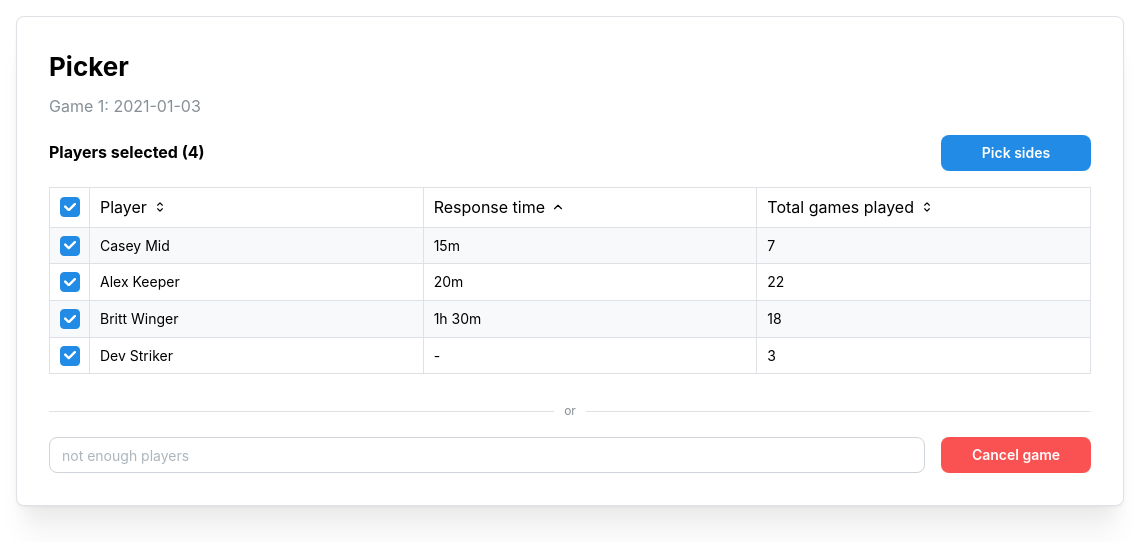
it: PickerForm › deselects all players when select-all is unchecked
The image size is (1141, 542).
Click the checkbox named "Select all players".
click(70, 207)  # box [60, 197, 80, 217]
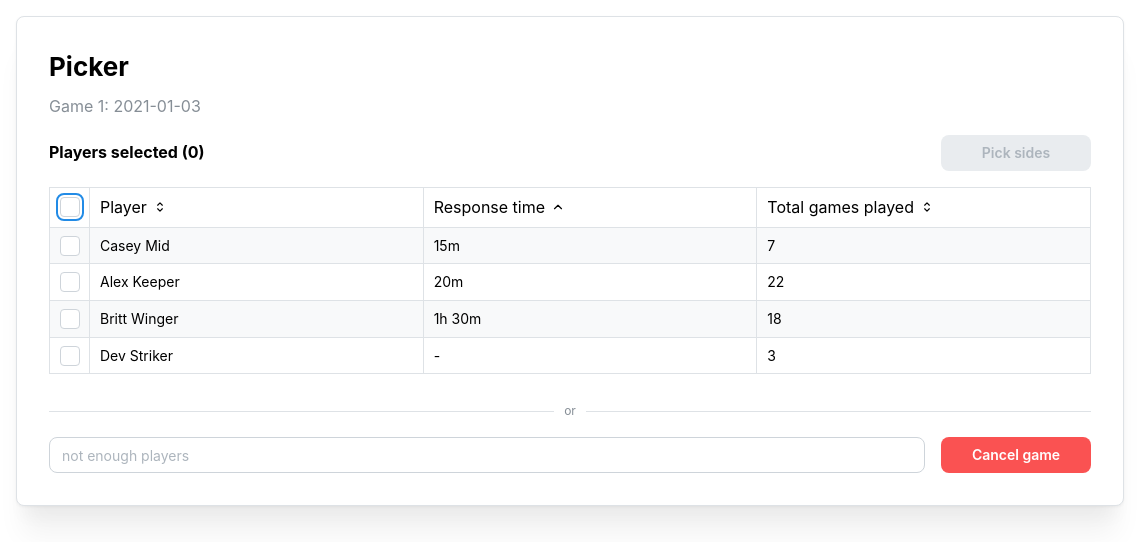
Check: the checkbox named "Select Alex Keeper" is not checked, box [60, 272, 80, 292]
Check: the checkbox named "Select Britt Winger" is not checked, box [60, 309, 80, 329]
Check: the checkbox named "Select Casey Mid" is not checked, box [60, 236, 80, 256]
